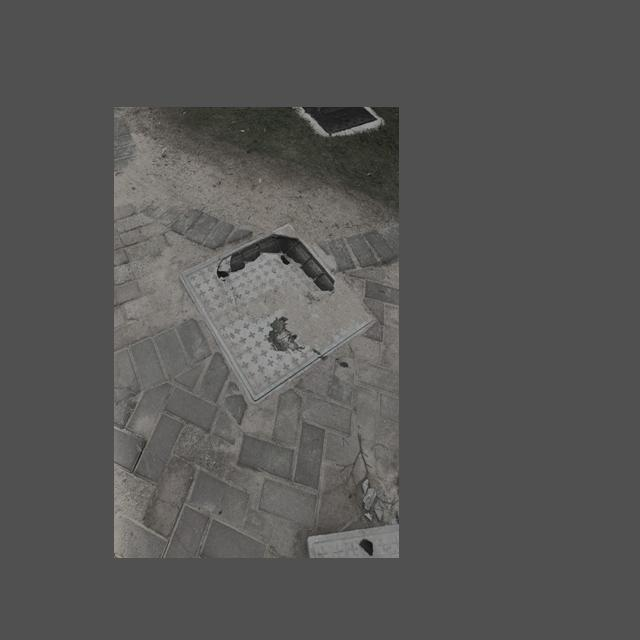broke: (176, 212, 371, 412)
